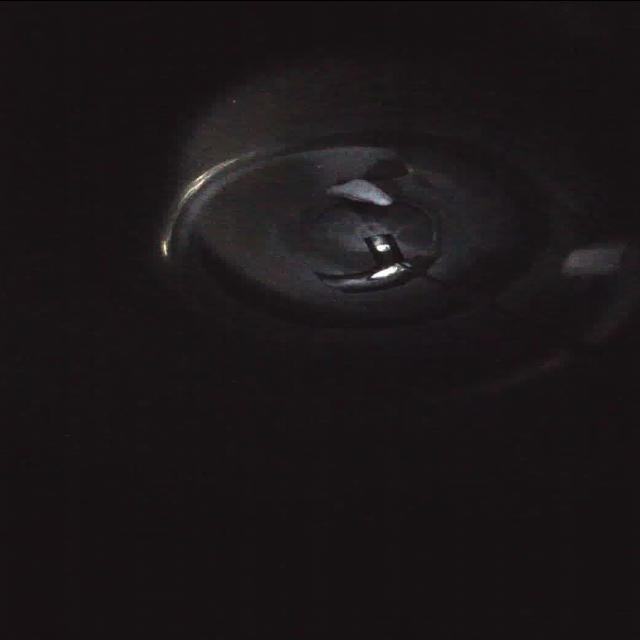impurity: (320, 171, 400, 213)
